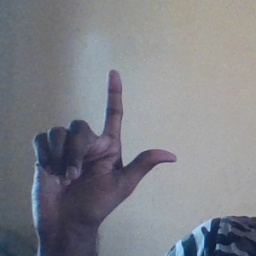L: (27, 69, 179, 228)
